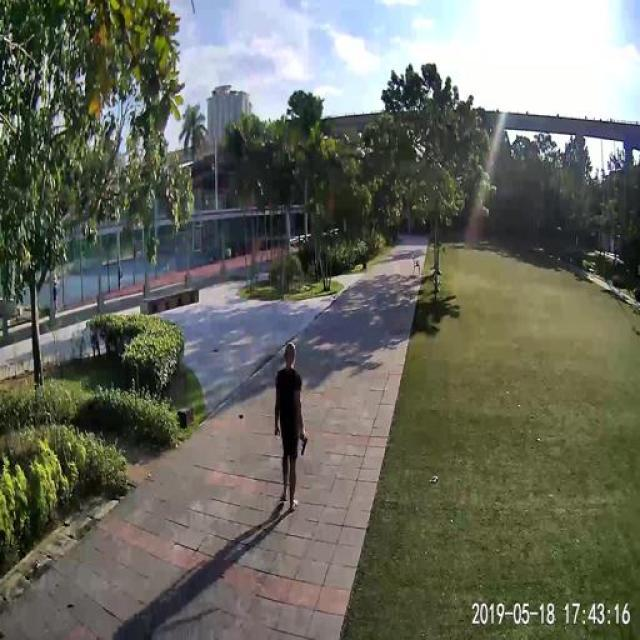Gun: (294, 428, 316, 462)
